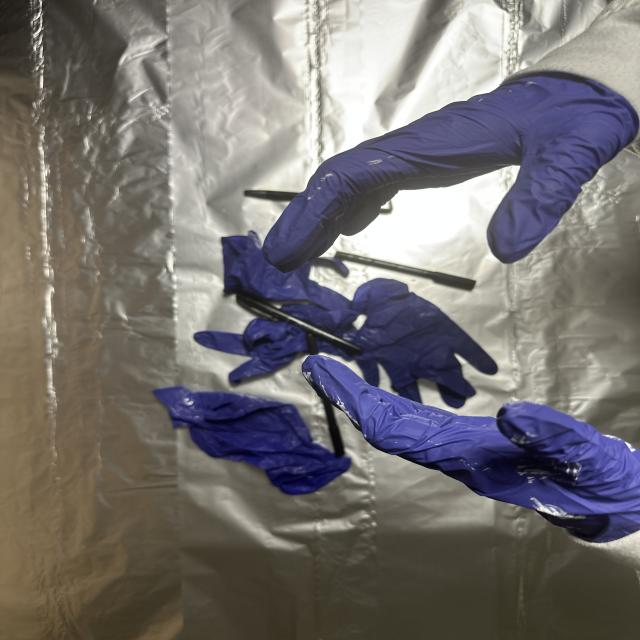gloves_contaminated: (264, 74, 638, 270), (302, 356, 640, 544)
